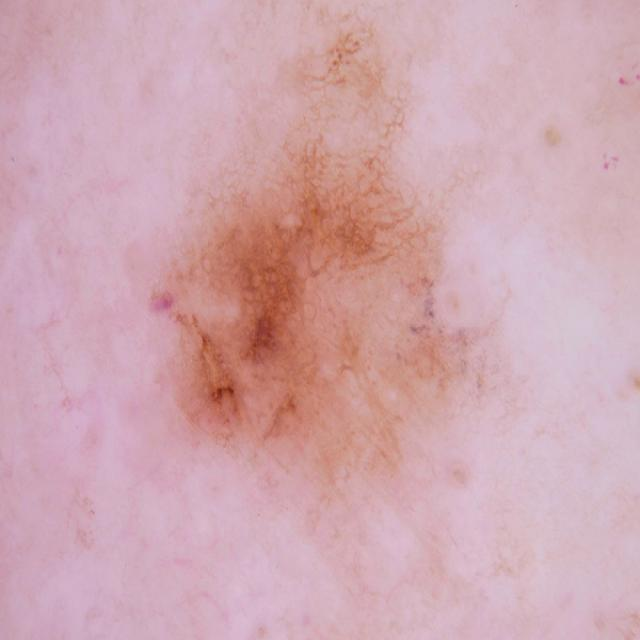Skin-Cancer Pigmented benign keratosis: (35, 12, 604, 604)
